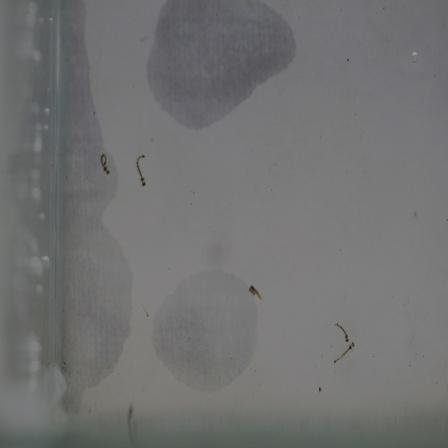Jentik-Nyamuk: (329, 318, 359, 369), (132, 149, 155, 191), (97, 151, 117, 179), (246, 281, 268, 303)
